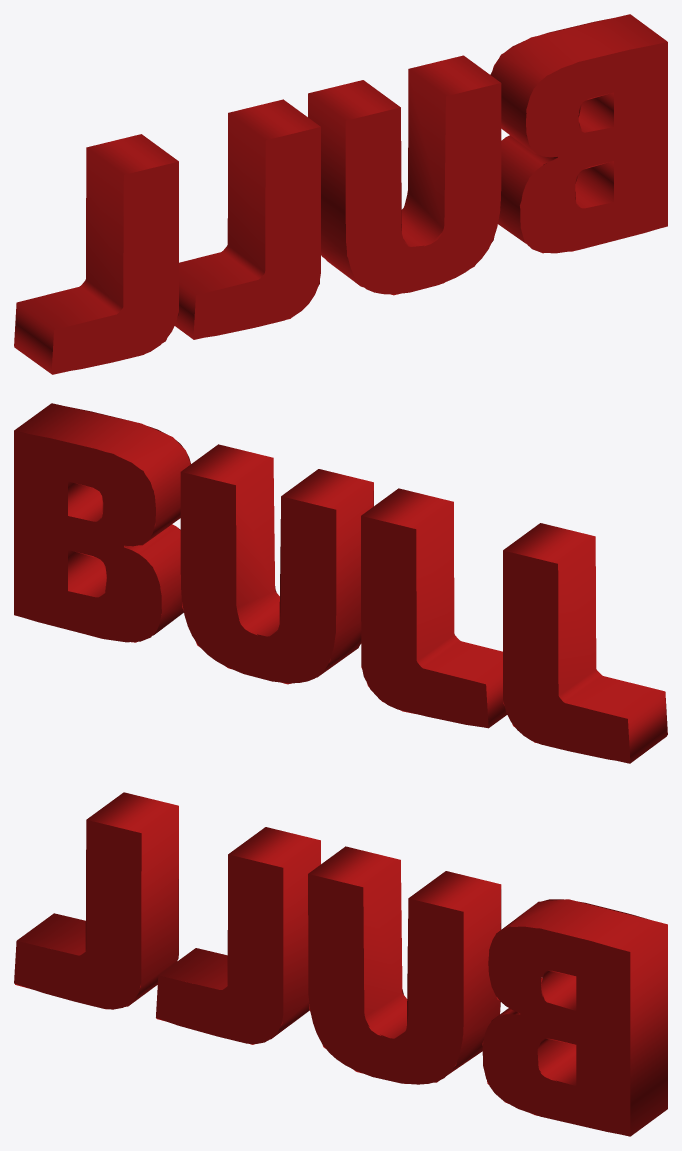
The model's file is bull.fbx.
3 views of the same model, one above another, from view 1: azimuth 30°, elevation 25°; view 2: azimuth 150°, elevation 25°; view 3: azimuth 330°, elevation 25° (orthographic).
Parts seen in each view (by area): view 1: Text; view 2: Text; view 3: Text.
Part boxes in pixels (box(x1,y1,x2,y2)): Text: box(14, 14, 667, 374); Text: box(14, 403, 667, 763); Text: box(14, 792, 667, 1136).
Size of the model in its own units: 7.58 by 2.23 by 0.8.
